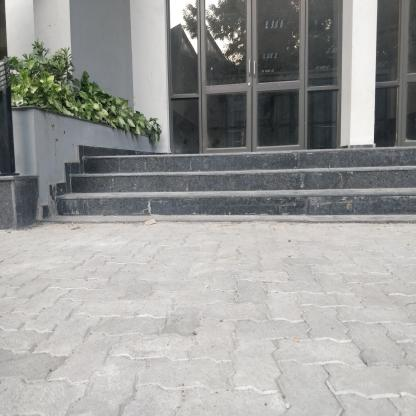stairs: (97, 149, 410, 230)
